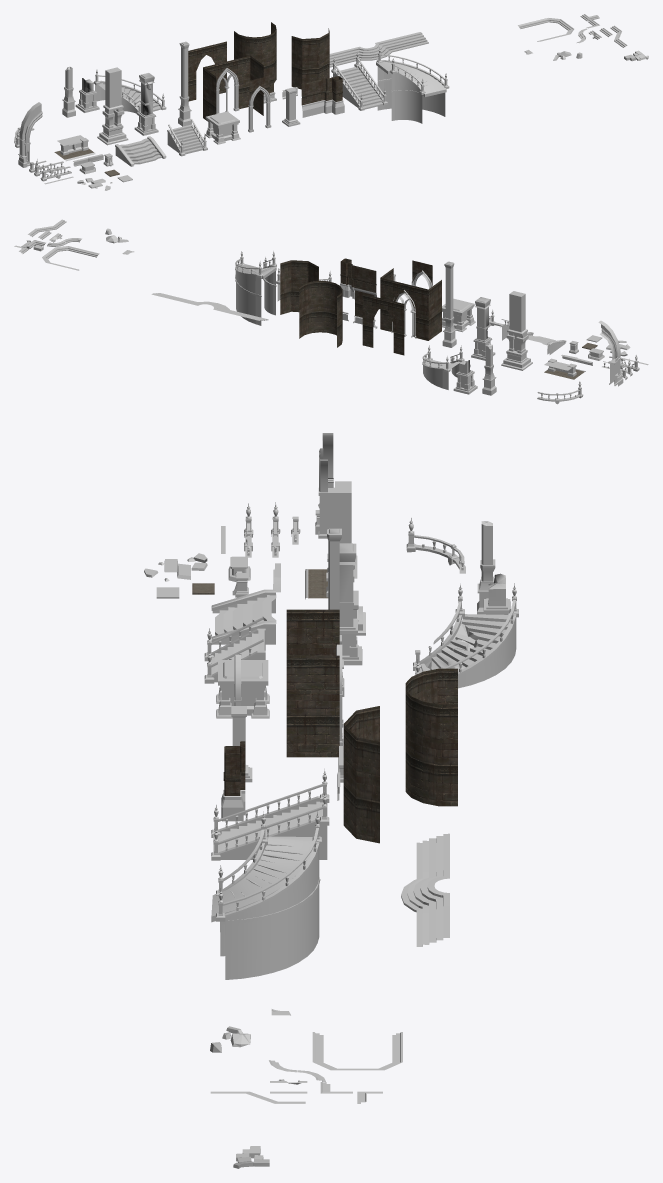
Rendered from f_1110_railing.FBX.
3 views of the same model, one above another, from view 1: azimuth 30°, elevation 25°; view 2: azimuth 150°, elevation 25°; view 3: azimuth 270°, elevation 25° (orthographic). The views are drawn at different scales.
Parts seen in each view (by area): view 1: w_1009_railing116, w_1009_railing118, w_1009_railing122, w_1009_railing121, w_1009_railing087, w_1009_railing124, w_1009_railing131, w_1009_railing123, w_1009_railing117, w_1009_railing104, w_1009_railing105, w_1009_railing127 (+16 smaller); view 2: w_1009_railing116, w_1009_railing131, w_1009_railing117, w_1009_railing087, w_1009_railing118, w_1009_railing122, w_1009_railing127, w_1009_railing123, w_1009_railing090, w_1009_railing096, w_1009_railing092, w_1009_railing093 (+10 smaller); view 3: w_1009_railing116, w_1009_railing131, w_1009_railing122, w_1009_railing127, w_1009_railing121, w_1009_railing118, w_1009_railing123, w_1009_railing124, Object002, w_1009_railing104, w_1009_railing093, w_1009_railing096 (+5 smaller).
Boxes of the visible parts, bbox=[...] form: w_1009_railing116: bbox=[203, 56, 263, 121]; w_1009_railing118: bbox=[291, 28, 329, 89]; w_1009_railing122: bbox=[377, 78, 445, 123]; w_1009_railing121: bbox=[331, 52, 387, 110]; w_1009_railing087: bbox=[97, 67, 128, 145]; w_1009_railing124: bbox=[329, 32, 428, 67]; w_1009_railing131: bbox=[234, 22, 276, 82]; w_1009_railing123: bbox=[376, 47, 449, 94]; w_1009_railing117: bbox=[188, 41, 226, 101]; w_1009_railing104: bbox=[115, 136, 166, 166]; w_1009_railing105: bbox=[167, 119, 207, 156]; w_1009_railing127: bbox=[93, 69, 166, 115]; w_1009_railing116: bbox=[380, 268, 441, 340]; w_1009_railing131: bbox=[299, 280, 342, 347]; w_1009_railing117: bbox=[362, 294, 404, 355]; w_1009_railing087: bbox=[501, 291, 532, 370]; w_1009_railing118: bbox=[280, 260, 318, 314]; w_1009_railing122: bbox=[235, 274, 276, 325]; w_1009_railing127: bbox=[422, 345, 464, 389]; w_1009_railing123: bbox=[235, 251, 276, 295]; w_1009_railing090: bbox=[442, 261, 456, 347]; w_1009_railing096: bbox=[471, 297, 495, 360]; w_1009_railing092: bbox=[598, 320, 623, 386]; w_1009_railing093: bbox=[442, 298, 475, 332]; w_1009_railing116: bbox=[286, 609, 339, 757]; w_1009_railing131: bbox=[405, 668, 457, 806]; w_1009_railing122: bbox=[220, 877, 320, 979]; w_1009_railing127: bbox=[413, 583, 518, 688]; w_1009_railing121: bbox=[211, 768, 329, 860]; w_1009_railing118: bbox=[343, 706, 379, 843]; w_1009_railing123: bbox=[216, 811, 321, 921]; w_1009_railing124: bbox=[401, 833, 449, 946]; Object002: bbox=[211, 836, 313, 922]; w_1009_railing104: bbox=[211, 589, 276, 644]; w_1009_railing093: bbox=[216, 660, 269, 718]; w_1009_railing096: bbox=[339, 543, 362, 665].
Size of the model in its own units: 13859 by 2416 by 3701.
